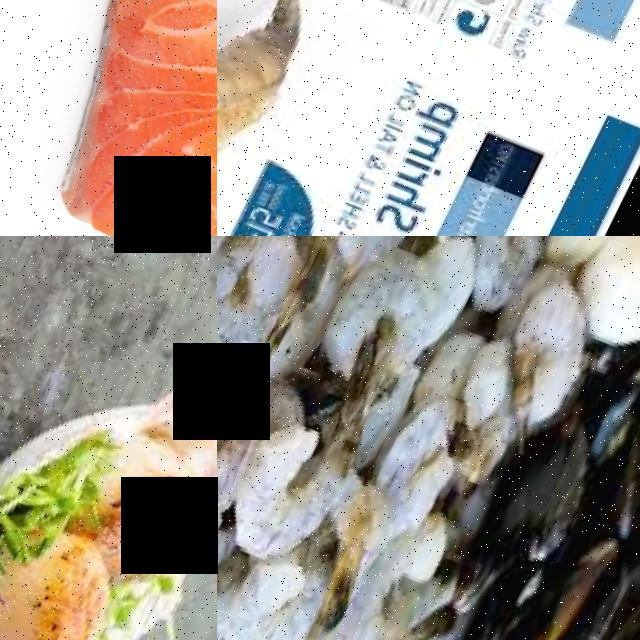salmon: (0, 0, 217, 236)
sea scallops: (82, 437, 217, 585), (0, 558, 127, 640)
shrimp: (217, 405, 368, 576), (308, 246, 455, 413), (217, 543, 338, 640), (444, 236, 567, 328)
